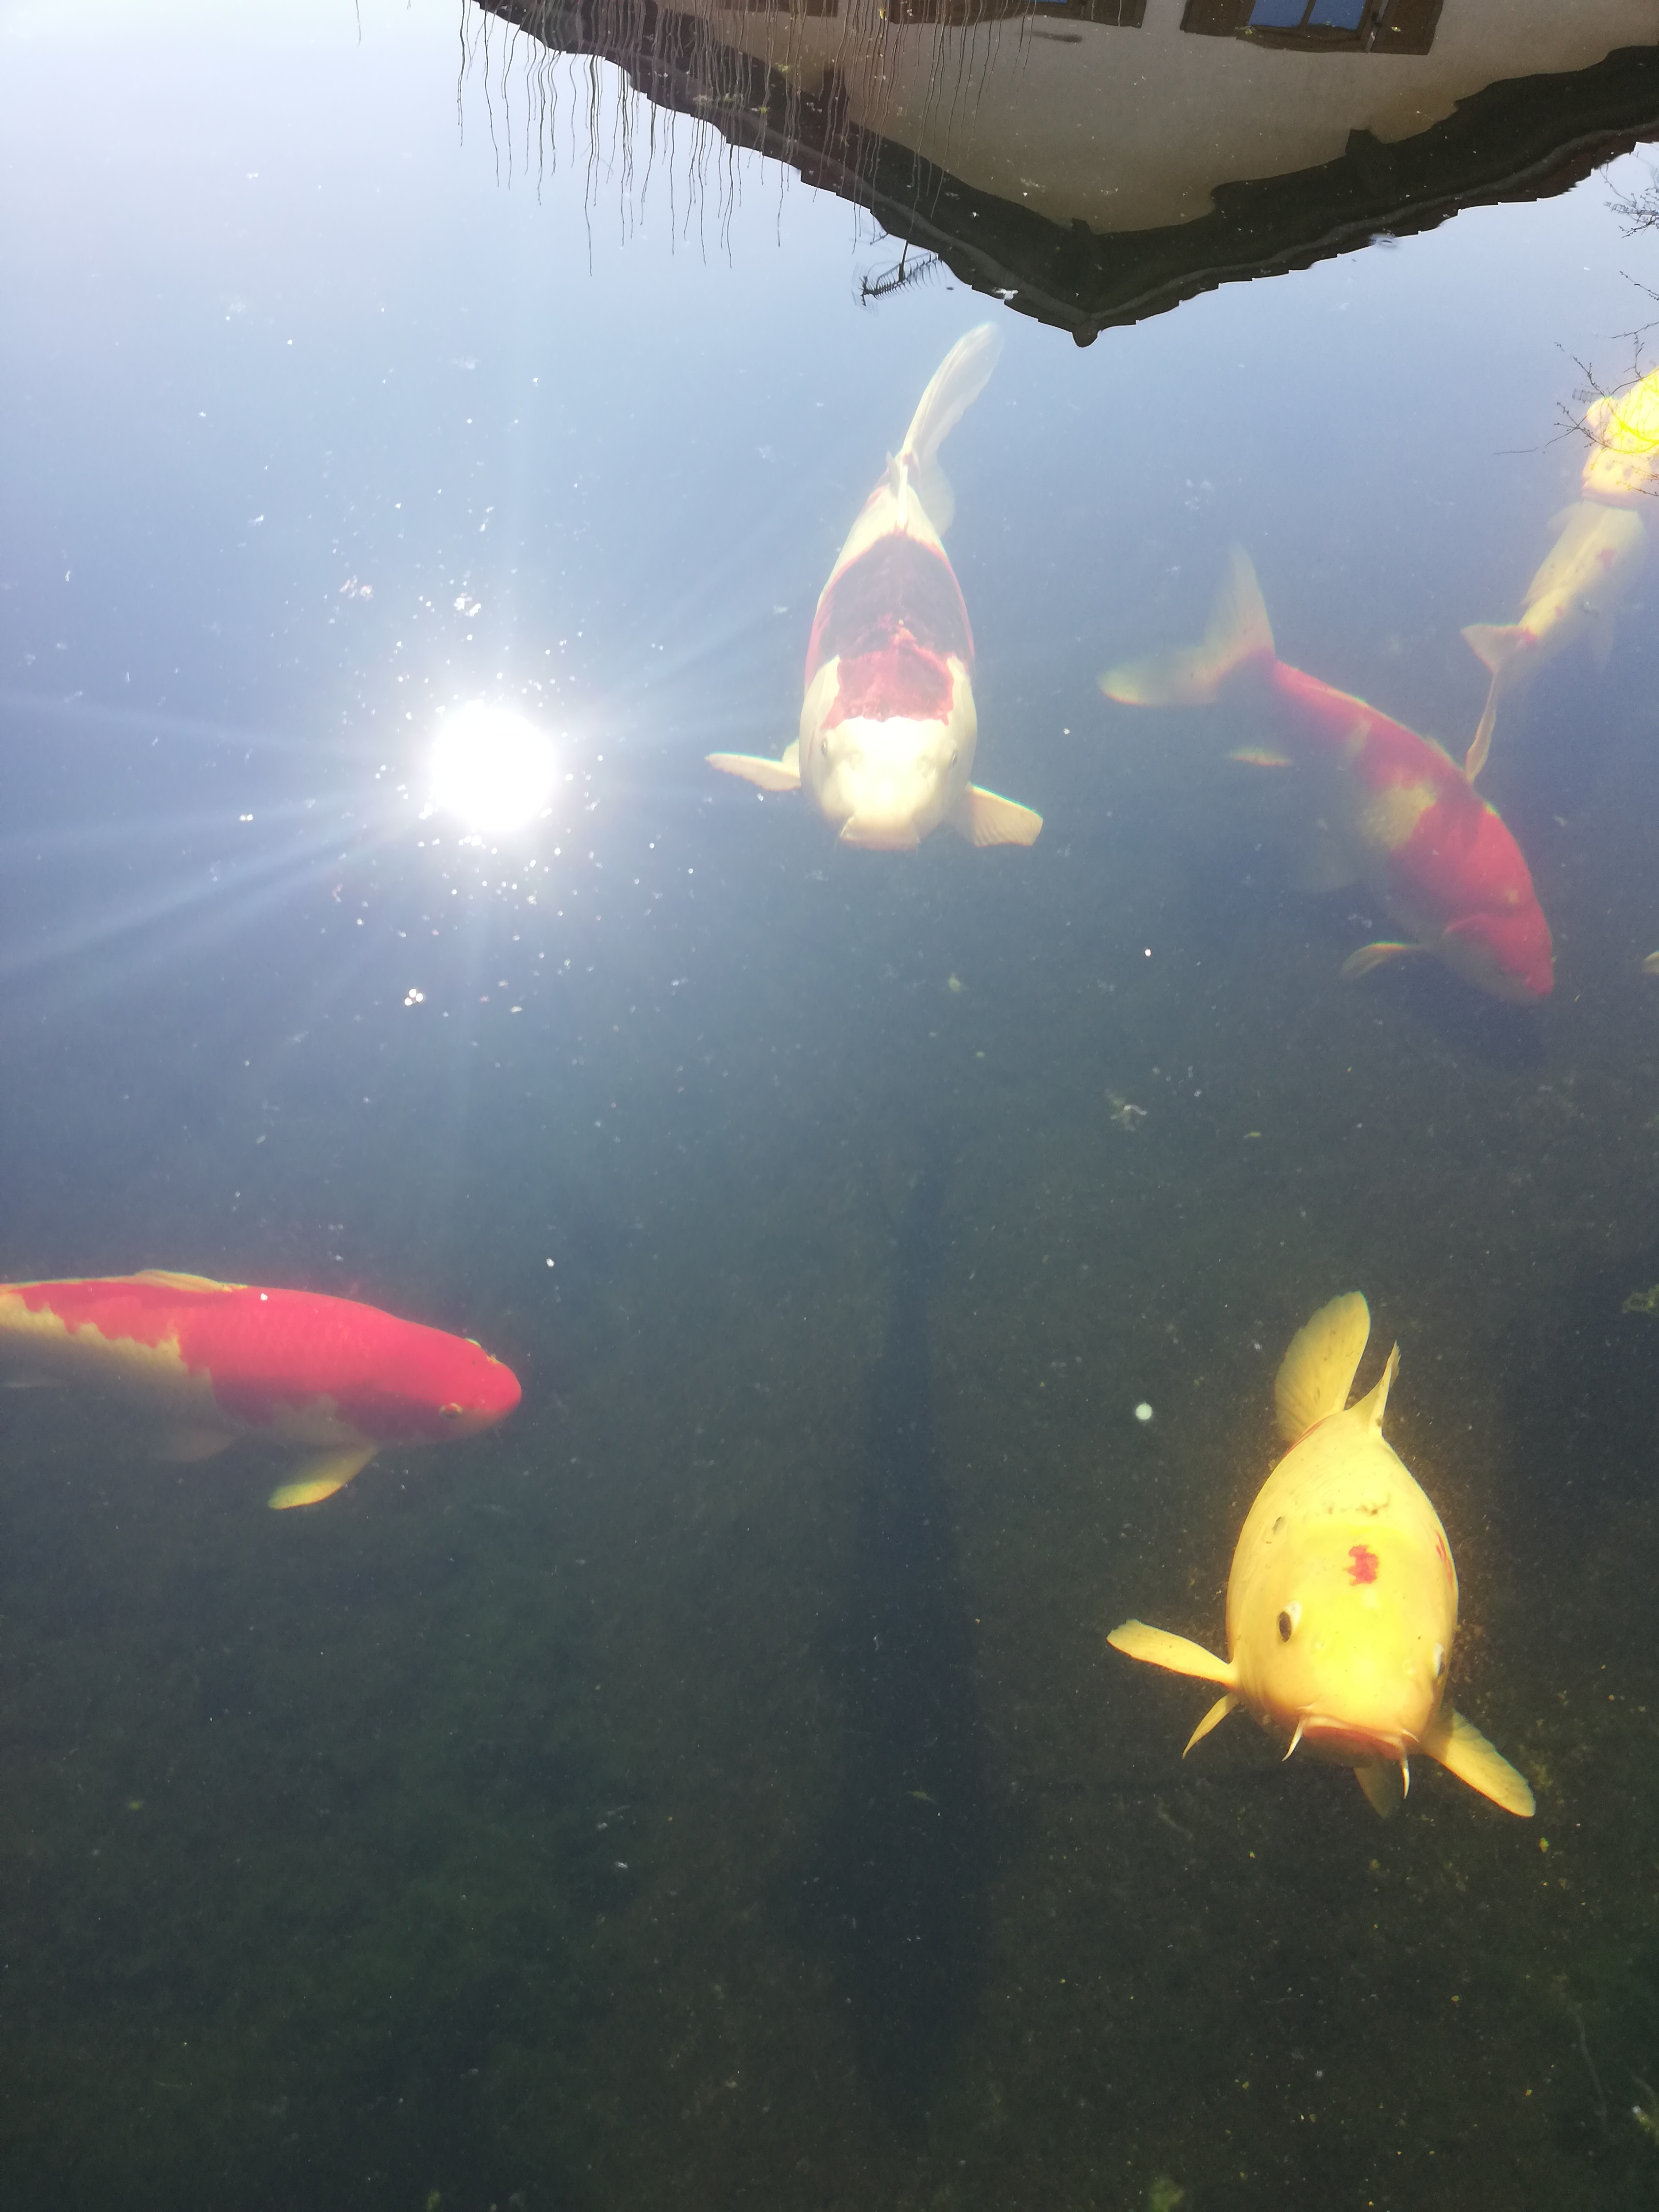Wallie: (695, 280, 1066, 897)
